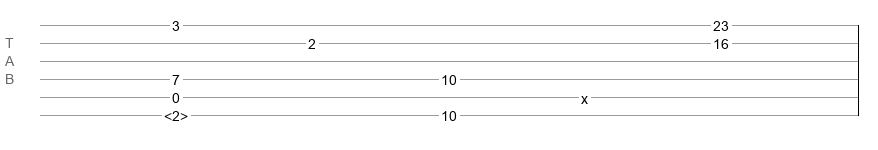0: (172, 90, 180, 100)
10: (441, 72, 457, 82), (441, 108, 457, 118)
16: (713, 36, 729, 46)
2: (308, 36, 316, 46)
23: (713, 18, 729, 28)
3: (172, 18, 180, 28)
7: (172, 72, 180, 82)
harmonic: (164, 108, 188, 118)
x: (581, 91, 588, 99)
